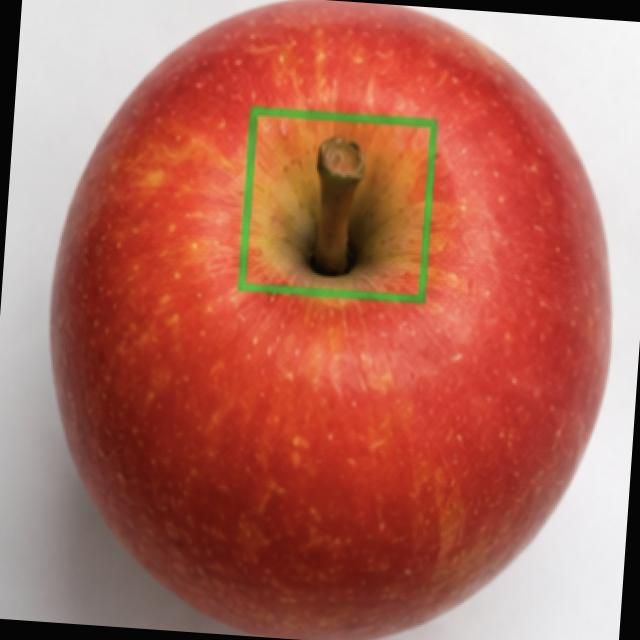Fruit-Stem-Detection: (242, 107, 428, 303), (312, 134, 361, 257)
